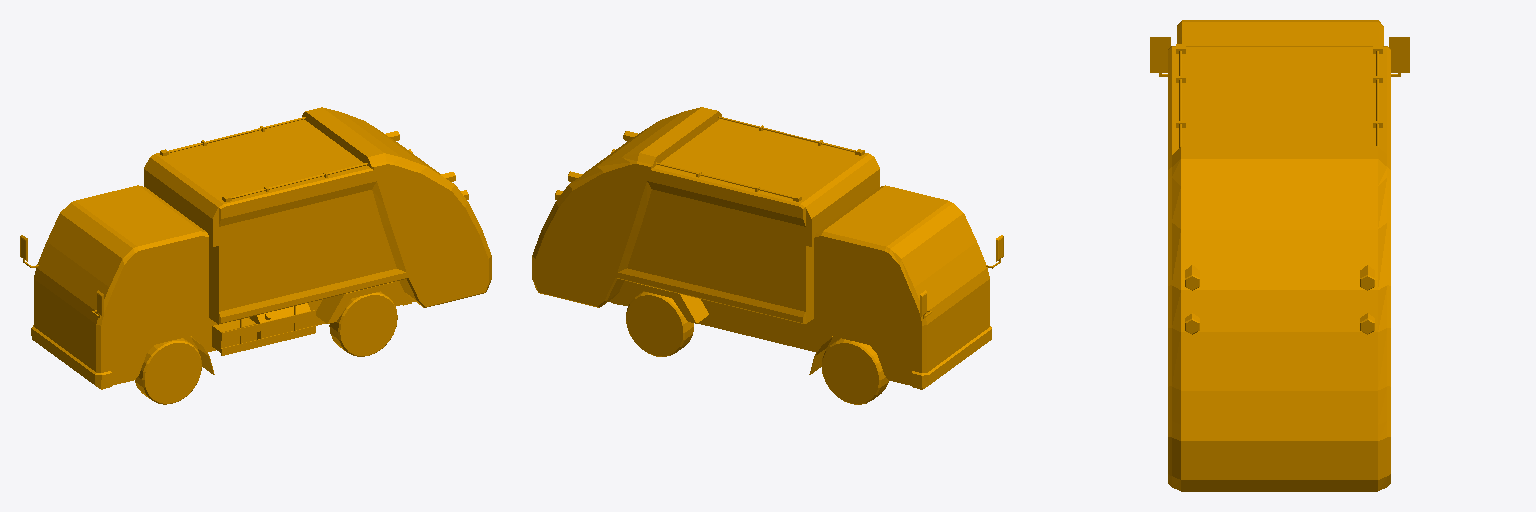
The robot description file, URDF, robot "mesh_object":
<?xml version="1.0" ?>
<robot name="mesh_object">
  <link name="base">
    <visual>
      <geometry>
        <mesh filename="garbage_truck_0.obj" scale="1 1 1"/>
      </geometry>
    </visual>
    <collision>
      <geometry>
        <mesh filename="garbage_truck_0.obj" scale="1 1 1"/>
      </geometry>
    </collision>
    <inertial>
      <origin xyz="0.003595 0.002153 0.044845" rpy="0 0 0"/>
      <mass value="0.5"/>
      <inertia ixx="0.01" iyy="0.01" izz="0.01" ixy="0" ixz="0" iyz="0"/>
    </inertial>
  </link>
</robot>

--- What the picture shows (computed from the rendered views, not written in the file) ---
3 views of the same robot in one strip: view 1: azimuth 30°, elevation 25°; view 2: azimuth 150°, elevation 25°; view 3: azimuth 270°, elevation 25° (orthographic).
Robot: mesh_object — 1 links, 0 joints (none); root link base; default pose: all joints at 0.
Visible links, largest first — view 1: base; view 2: base; view 3: base.
Boxes of the visible links, x1=… form: base: x1=20, y1=107, x2=491, y2=404; base: x1=532, y1=107, x2=1003, y2=404; base: x1=1150, y1=20, x2=1409, y2=491.
Size in the robot's own frame: 0.1896 by 0.068 by 0.0897 metres.
1 mesh visuals loaded from 1 distinct referenced files (1 OBJ).
